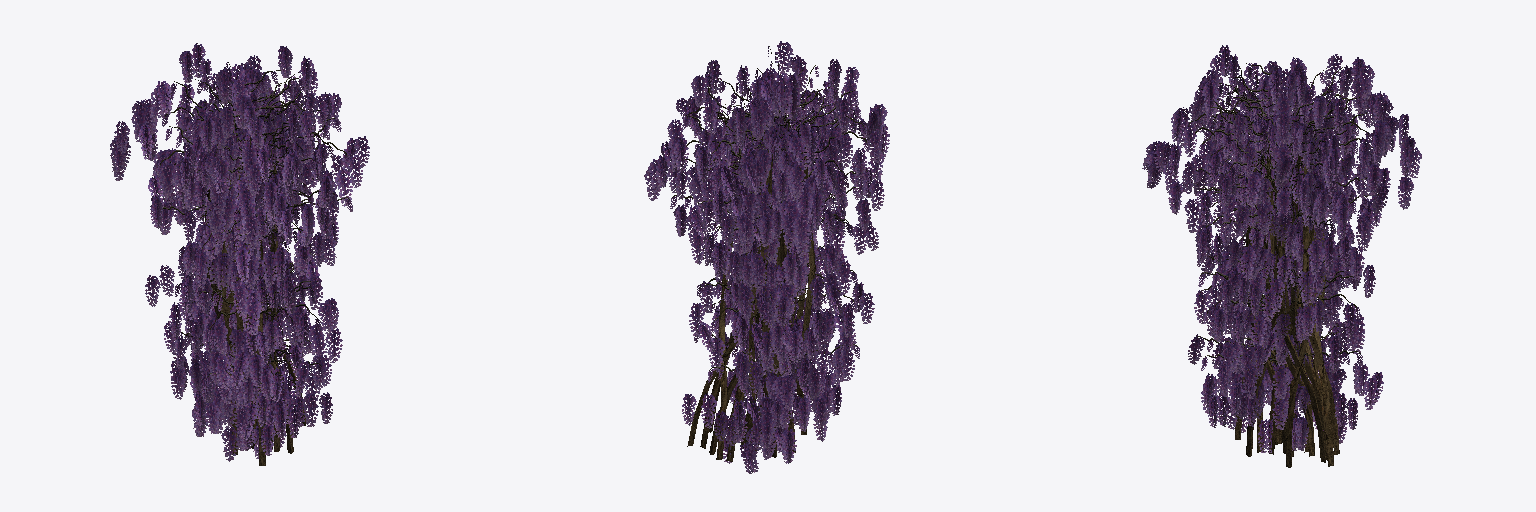
3 renders of one model, left to right at view 1: azimuth 30°, elevation 25°; view 2: azimuth 150°, elevation 25°; view 3: azimuth 270°, elevation 25°, orthographic.
Visible parts, largest first — view 1: violet_tree; view 2: violet_tree; view 3: violet_tree.
Part boxes in pixels (x1,y1,x2,y2): violet_tree: (110,43,369,465); violet_tree: (644,41,889,473); violet_tree: (1142,45,1421,467).
Bounding box in the file's own units: 58.69 × 98.56 × 66.09.
2 materials, 1 textured.